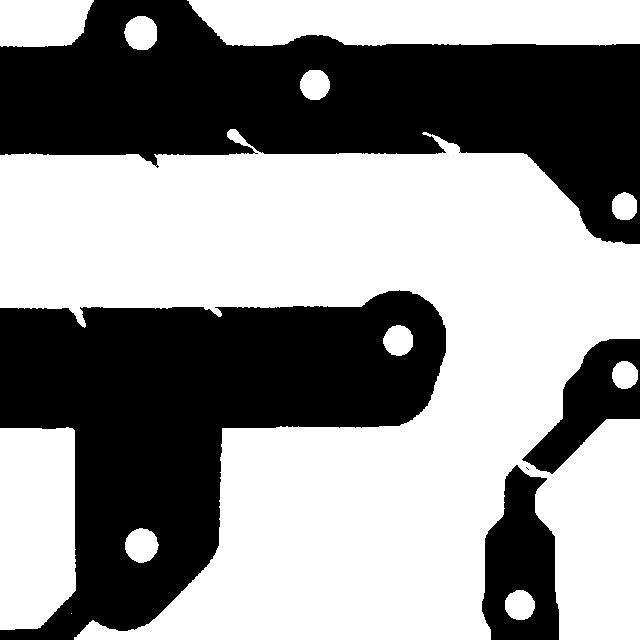mousebite: (217, 119, 273, 164), (412, 122, 469, 164), (59, 295, 95, 337), (191, 292, 231, 326)
open: (505, 450, 565, 488)
spur: (127, 135, 168, 177)
